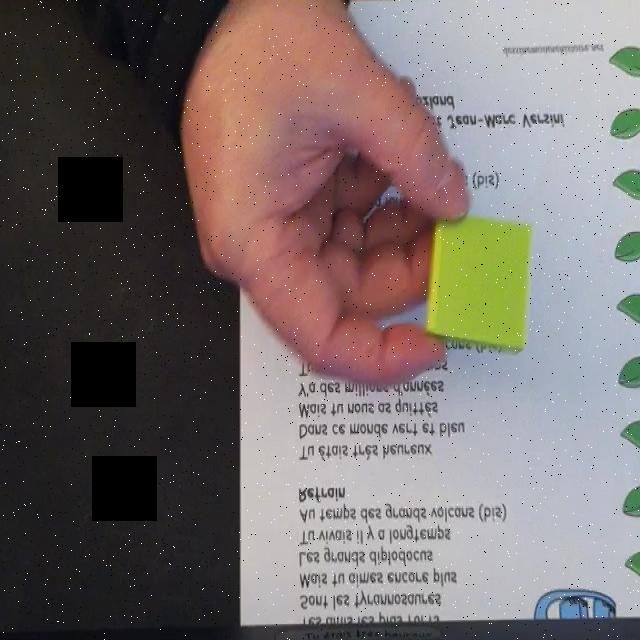square: (428, 212, 533, 354)
